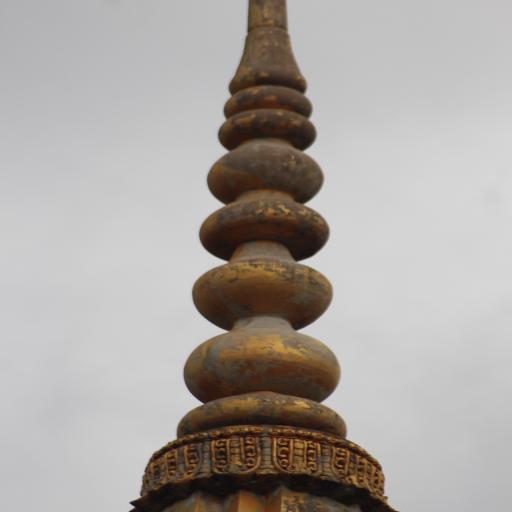la: (210, 436, 267, 474), (274, 435, 322, 475), (166, 443, 204, 482), (329, 446, 363, 486), (364, 459, 388, 503), (139, 456, 166, 492)
